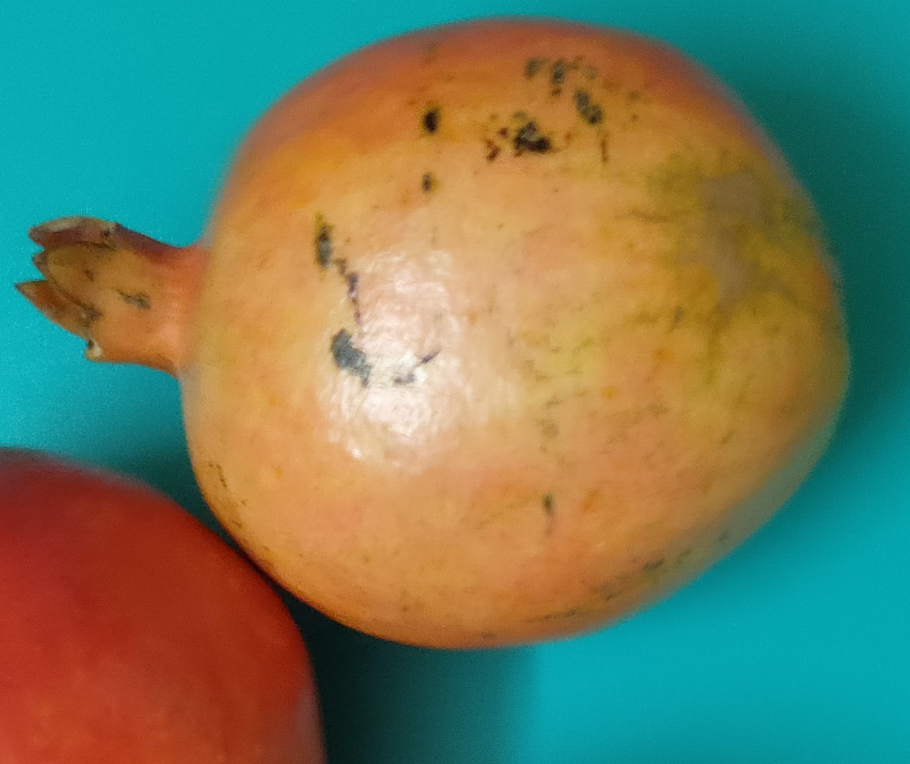pomegranate_B: (15, 17, 853, 649)
